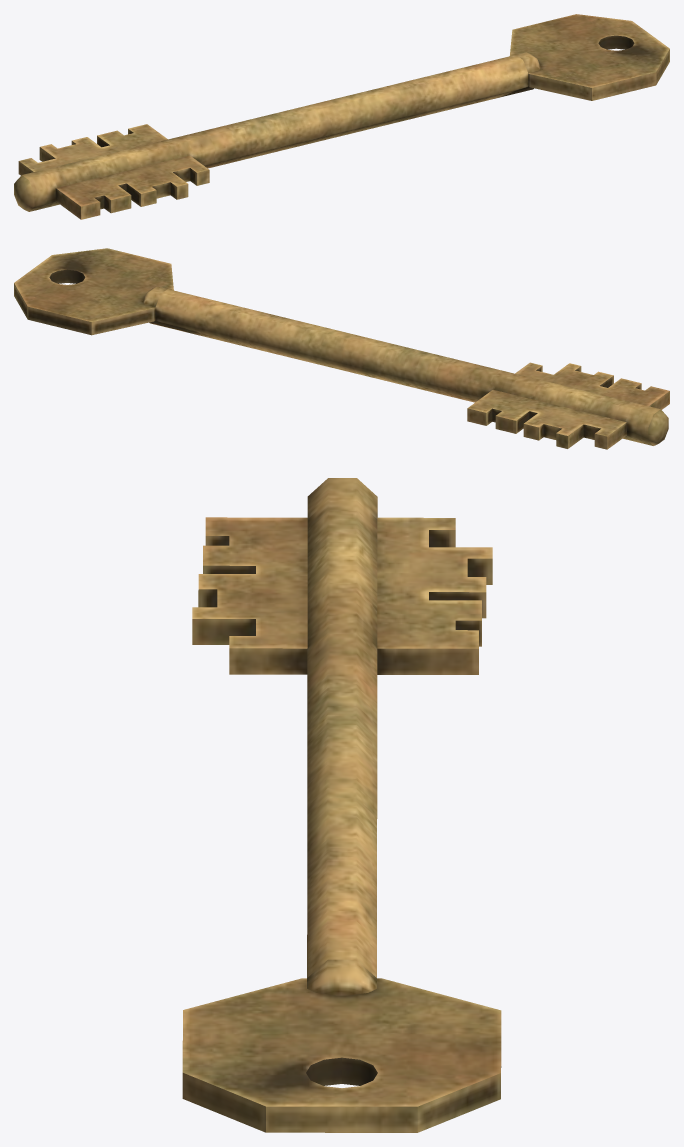
The model's file is old-key.glb.
3 renders of one model, top to bottom at view 1: azimuth 30°, elevation 25°; view 2: azimuth 150°, elevation 25°; view 3: azimuth 270°, elevation 25°, orthographic. The views are drawn at different scales.
Parts seen in each view (by area): view 1: old-key; view 2: old-key; view 3: old-key.
Part boxes in pixels (x1,y1,x2,y2): old-key: (14, 14, 669, 219); old-key: (14, 248, 669, 449); old-key: (182, 478, 501, 1132).
Bounding box in the file's own units: 0.07 × 0.00338 × 0.0153.
1 material, 1 textured.
